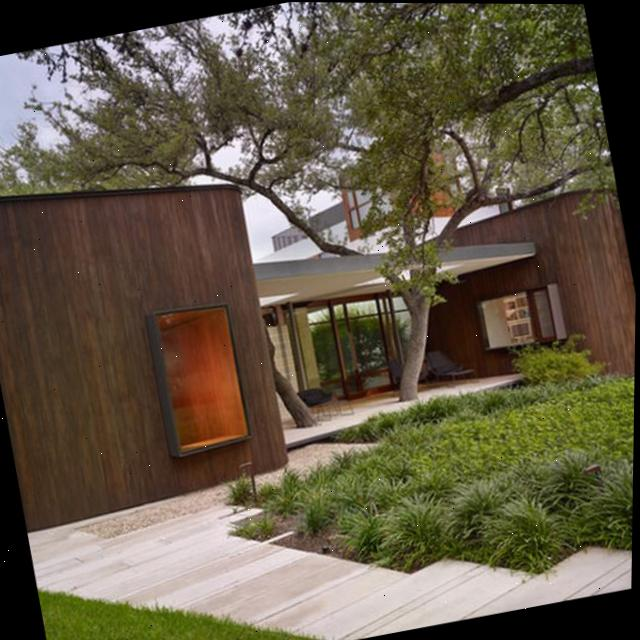building: (0, 70, 639, 540)
